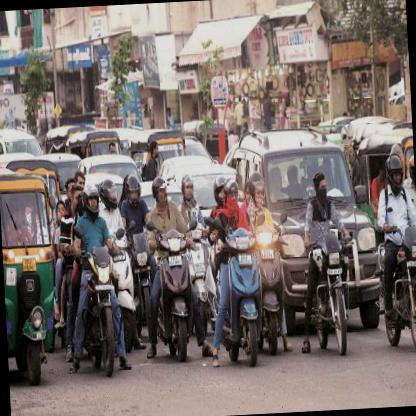car: (232, 123, 380, 334)
motorcycle: (60, 186, 126, 376), (200, 170, 263, 368), (296, 170, 358, 356), (138, 177, 200, 362), (372, 139, 415, 355), (244, 171, 292, 354), (178, 170, 214, 350)
